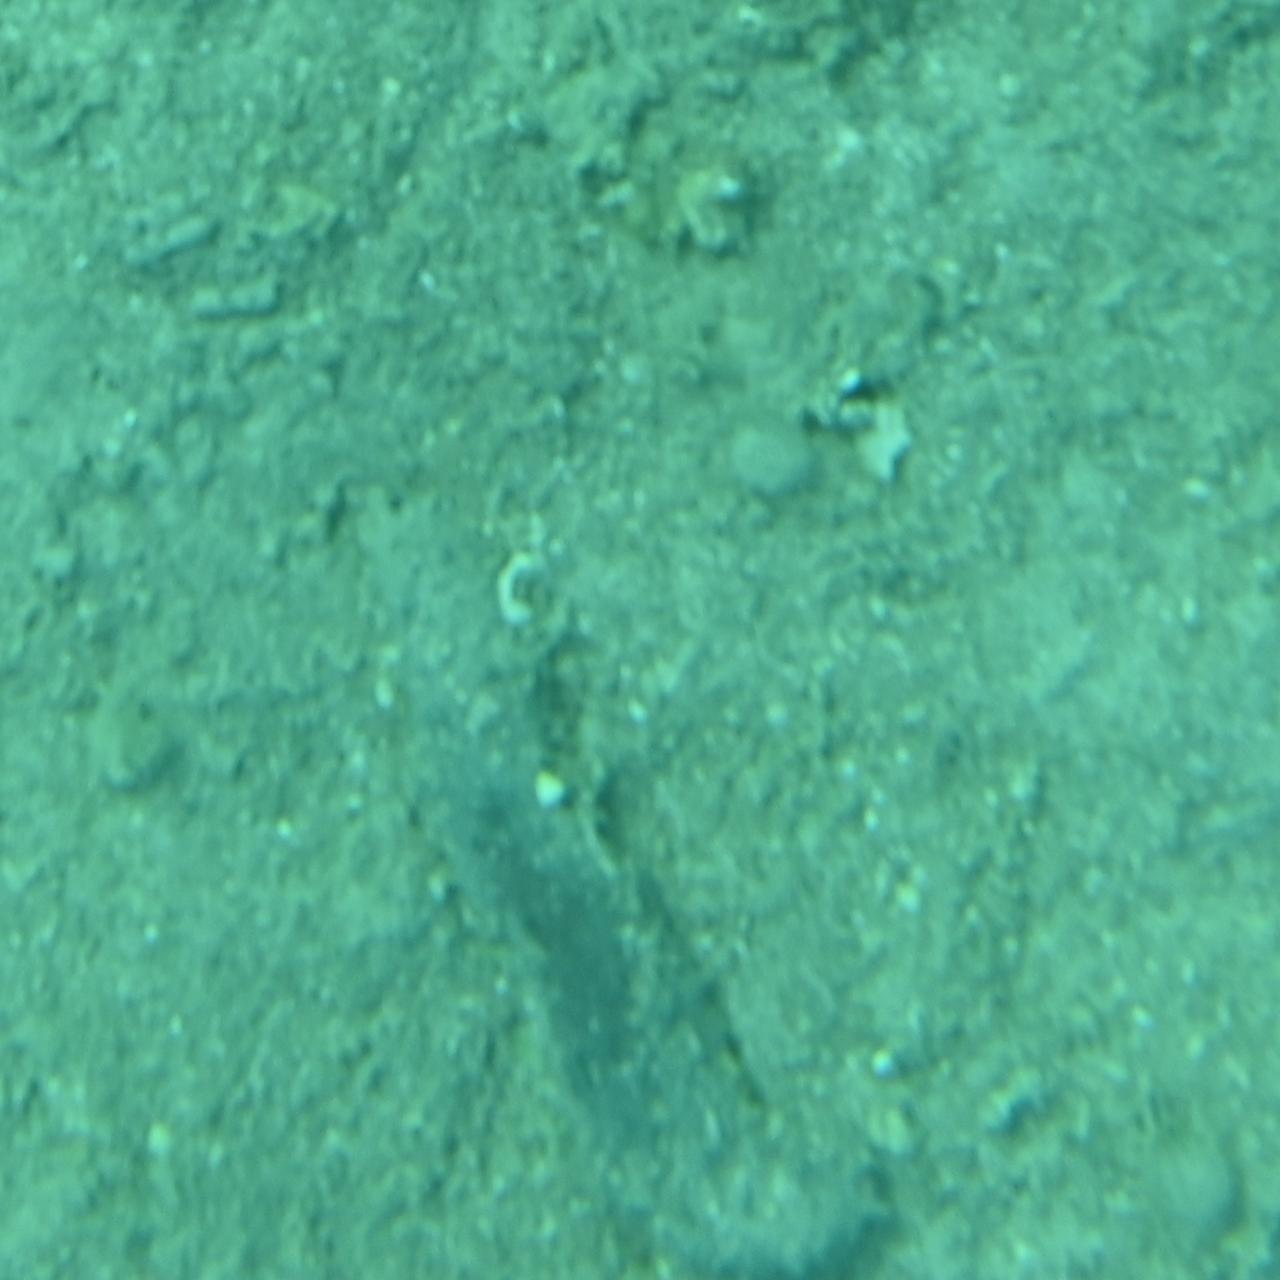Holothuria tubulosa: (376, 632, 904, 1280)
